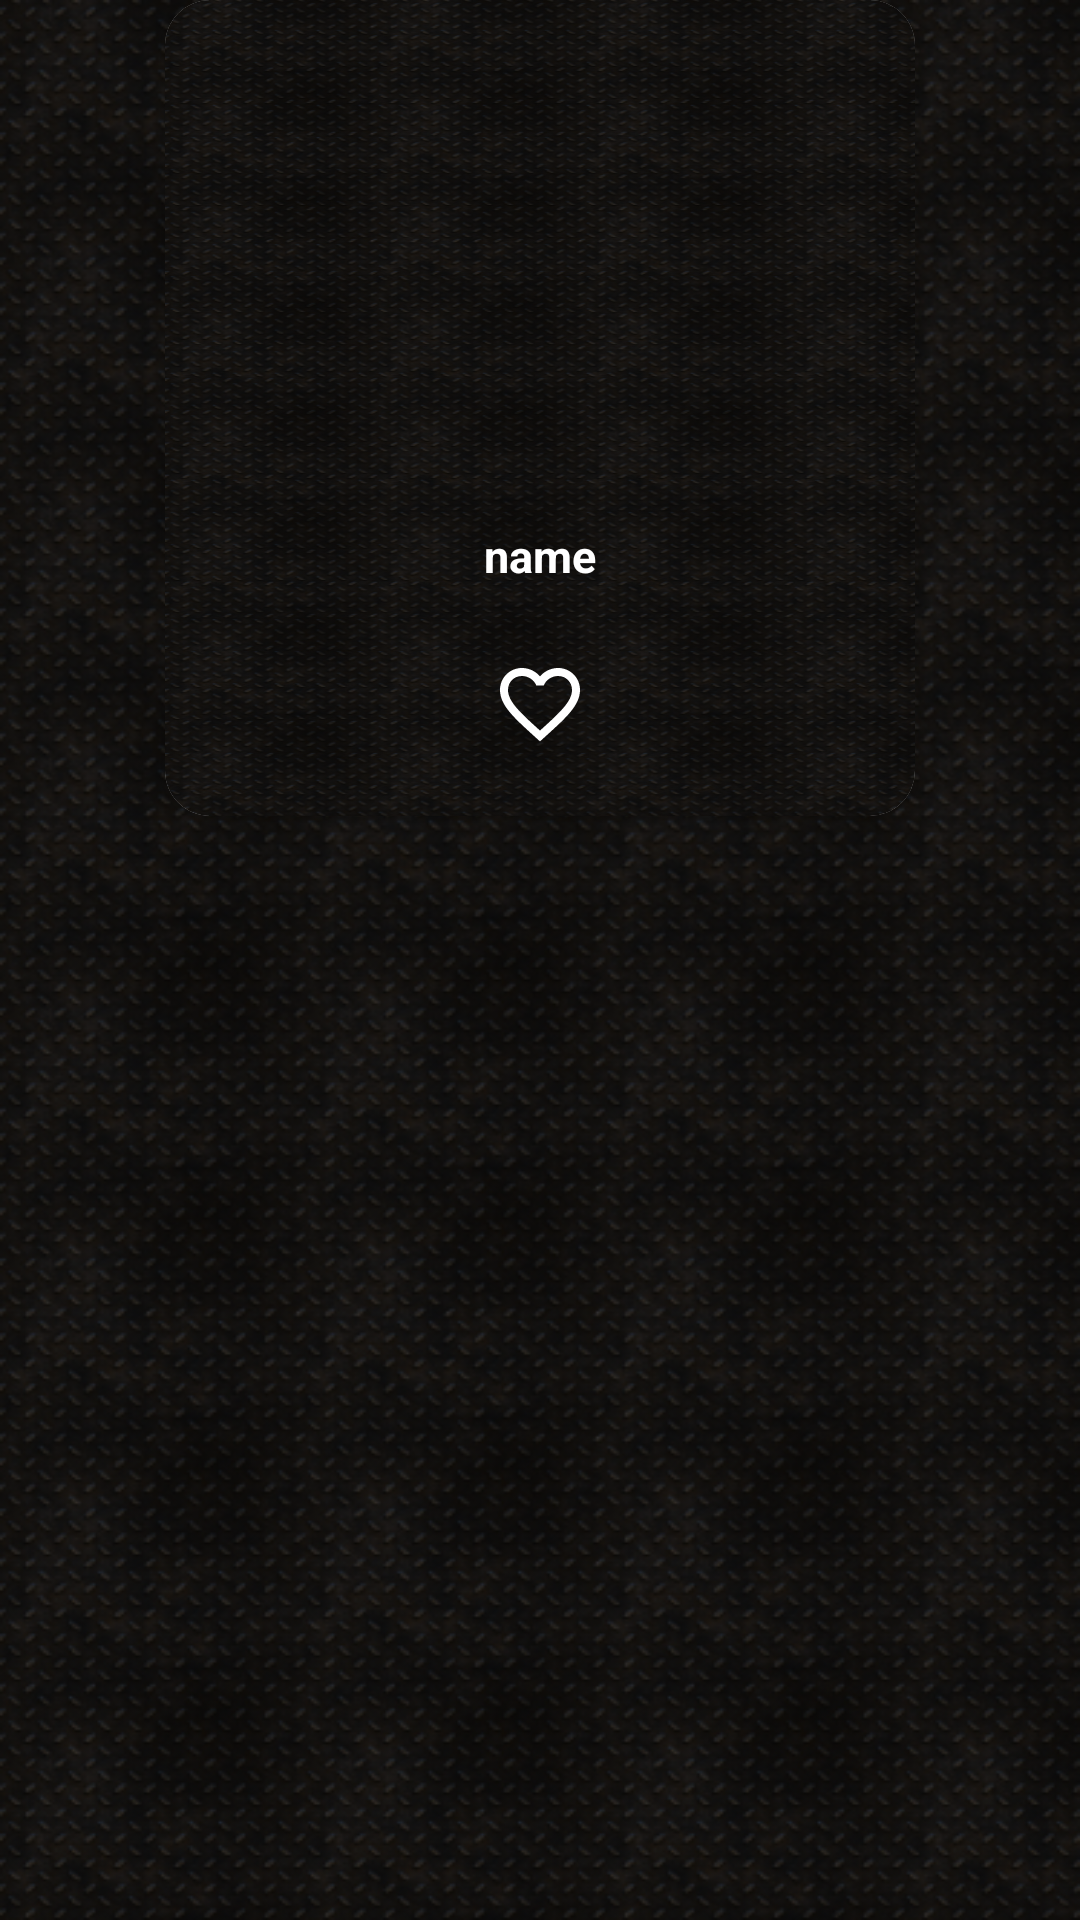

Point at icon controls on the screen. Image size 1080*1920, points as (x,y).
favorite border: (539,704)
